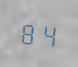eight: (19, 18, 37, 46)
four: (38, 19, 56, 48)
